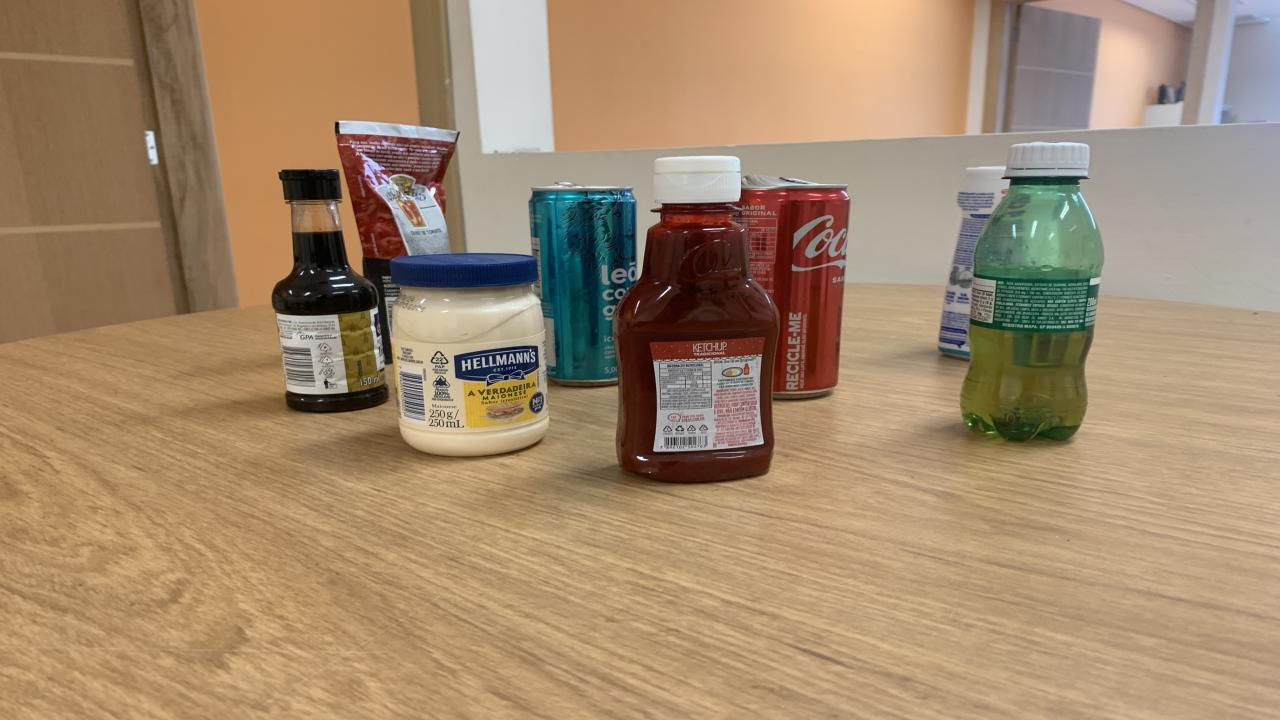Cleaner-Cleanup_Items: (938, 167, 1010, 358)
Coke-Drinks: (735, 176, 850, 398)
English_Sauce-Pantry_Items: (272, 171, 388, 412)
Guarana-Drinks: (960, 142, 1105, 441)
Ketchup-Pantry_Items: (612, 156, 778, 482)
Mayonnaise-Pantry_Items: (390, 253, 548, 456)
Tea-Drinks: (530, 184, 638, 386)
Tomato_Sauce-Pantry_Items: (335, 122, 458, 311)
